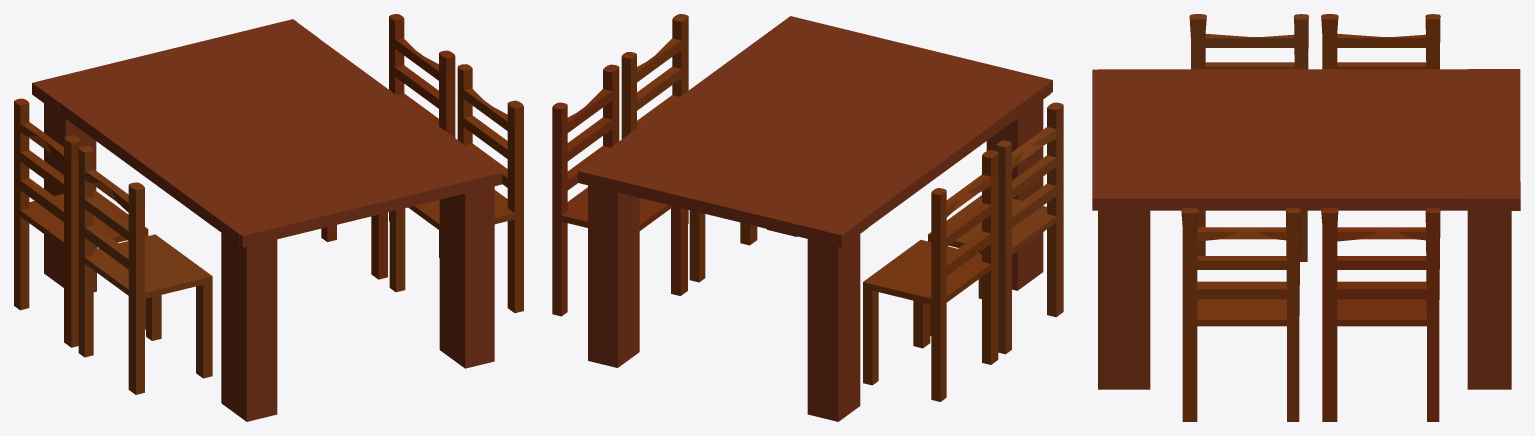
Rendered from table.gltf.
3 renders of one model, left to right at view 1: azimuth 30°, elevation 25°; view 2: azimuth 150°, elevation 25°; view 3: azimuth 270°, elevation 25°, orthographic. The views are drawn at different scales.
Visible parts, largest first — view 1: Cube, Cube.002, Cube.003, Cube.001, Cube.004; view 2: Cube, Cube.003, Cube.002, Cube.004, Cube.001; view 3: Cube, Cube.001, Cube.004, Cube.002, Cube.003.
Part boxes in pixels (x1,y1,x2,y2): Cube: [32, 19, 502, 421]; Cube.002: [78, 146, 212, 394]; Cube.003: [14, 98, 148, 347]; Cube.001: [389, 64, 523, 312]; Cube.004: [321, 14, 455, 279]; Cube: [578, 16, 1052, 421]; Cube.003: [863, 150, 998, 401]; Cube.002: [928, 102, 1063, 354]; Cube.004: [552, 64, 687, 316]; Cube.001: [621, 14, 757, 282]; Cube: [1092, 69, 1520, 389]; Cube.001: [1181, 207, 1300, 421]; Cube.004: [1321, 207, 1440, 421]; Cube.002: [1189, 14, 1308, 261]; Cube.003: [1321, 14, 1440, 69].
Size of the model in its own units: 2.77 by 1.47 by 2.6.
